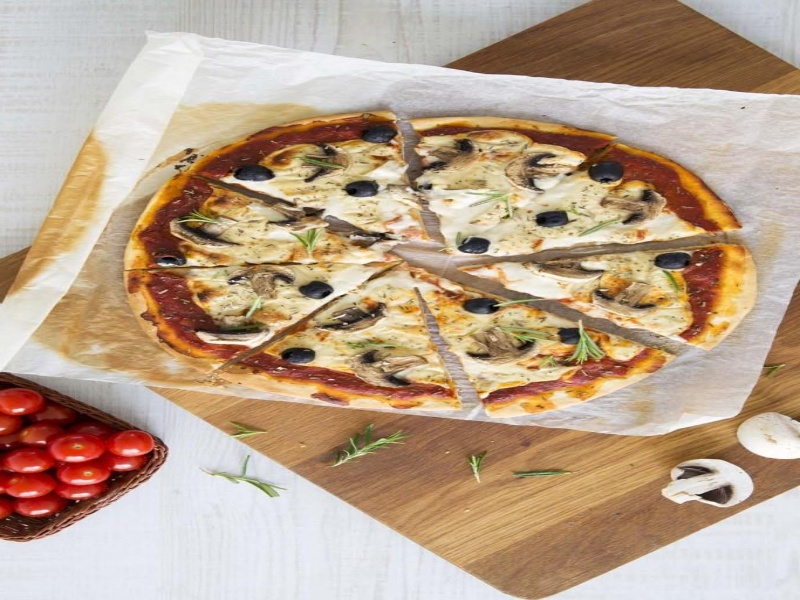champignon: (167, 209, 246, 265), (593, 186, 678, 234), (500, 148, 580, 198), (465, 322, 546, 371), (347, 346, 431, 391), (587, 280, 666, 327), (523, 249, 614, 287), (228, 262, 304, 306), (420, 132, 484, 184), (192, 315, 273, 355)
olive: (459, 287, 506, 320), (231, 156, 276, 189), (586, 154, 629, 186), (296, 275, 339, 304), (652, 247, 696, 275), (450, 232, 495, 259), (280, 340, 321, 369), (528, 207, 571, 234), (343, 178, 383, 206), (360, 122, 400, 148)
